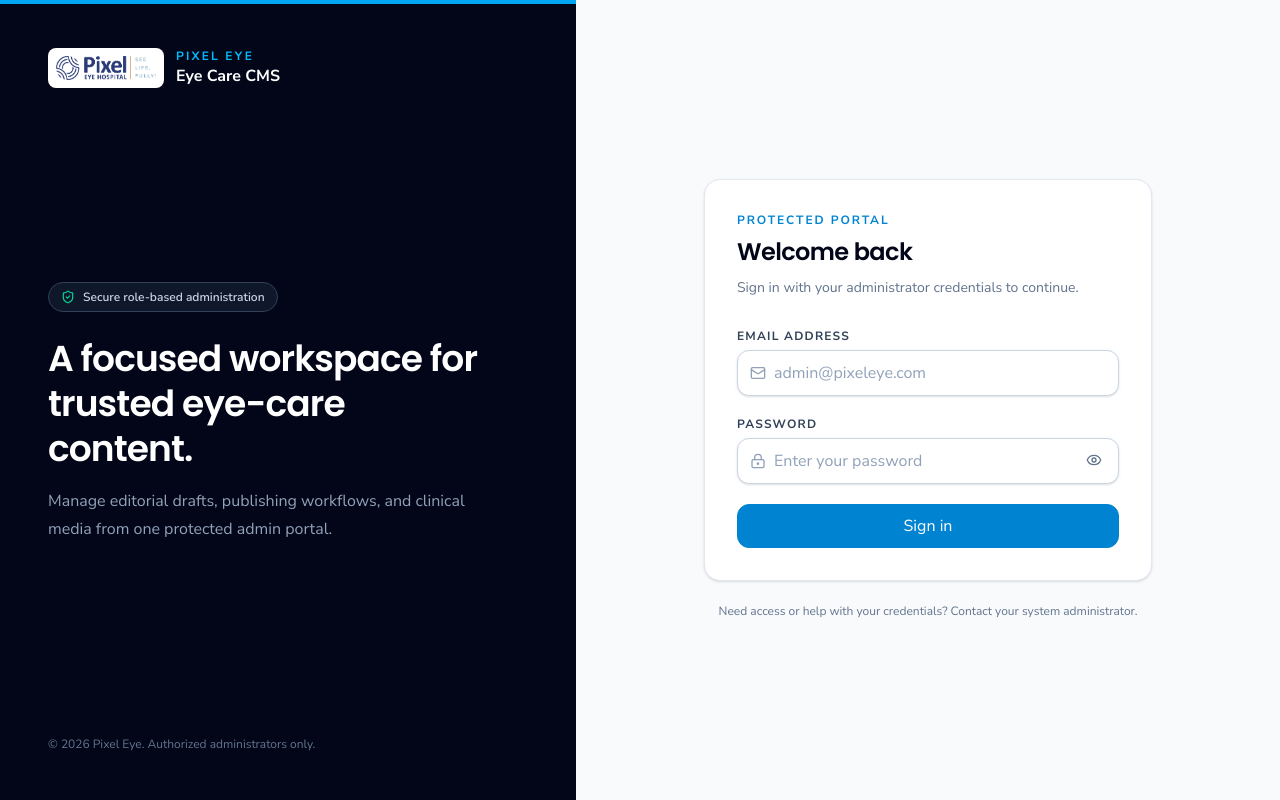
Test: LoginPage › validates required fields before submitting
Click the button "Sign in" at (928, 526), box [737, 504, 1119, 548]
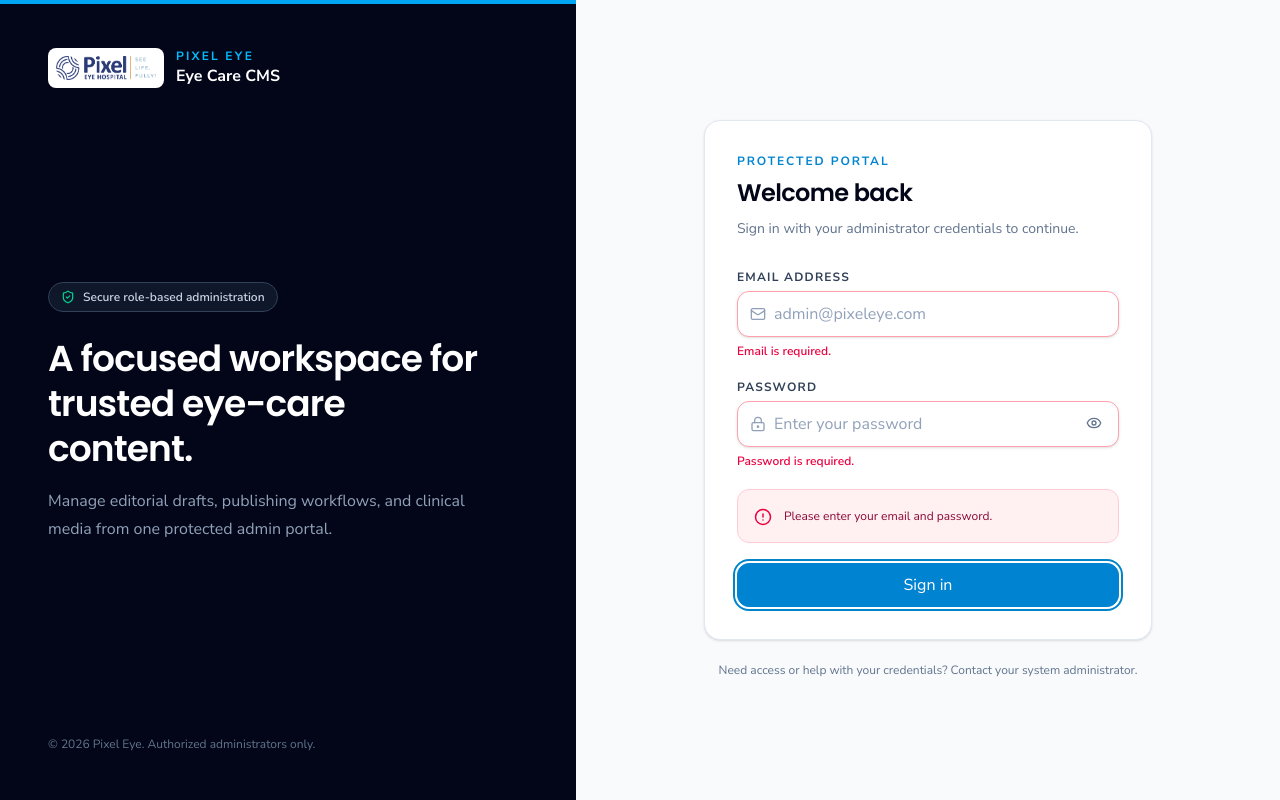
Check: the message reads "Please enter your email and password.", box [784, 508, 992, 524]
